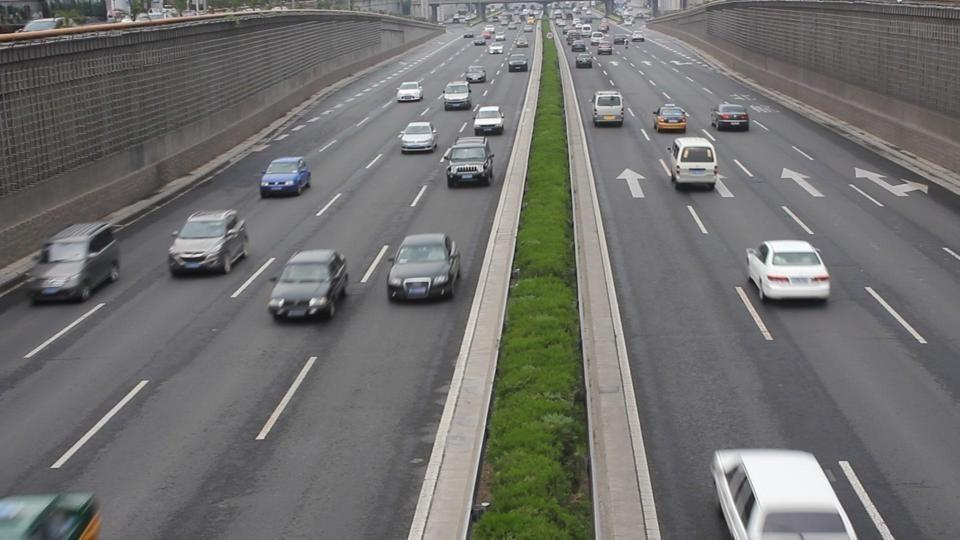car: (710, 448, 859, 539), (27, 221, 122, 305), (266, 248, 350, 321), (165, 209, 252, 277), (745, 239, 833, 305), (386, 233, 463, 303), (0, 490, 105, 538), (661, 134, 720, 191), (443, 137, 495, 187), (258, 157, 312, 198), (399, 121, 438, 154), (592, 90, 624, 128), (712, 101, 751, 132), (653, 103, 689, 133), (473, 105, 505, 136), (443, 81, 472, 111), (398, 81, 424, 103), (506, 53, 529, 73), (465, 64, 486, 83), (574, 51, 593, 69)
